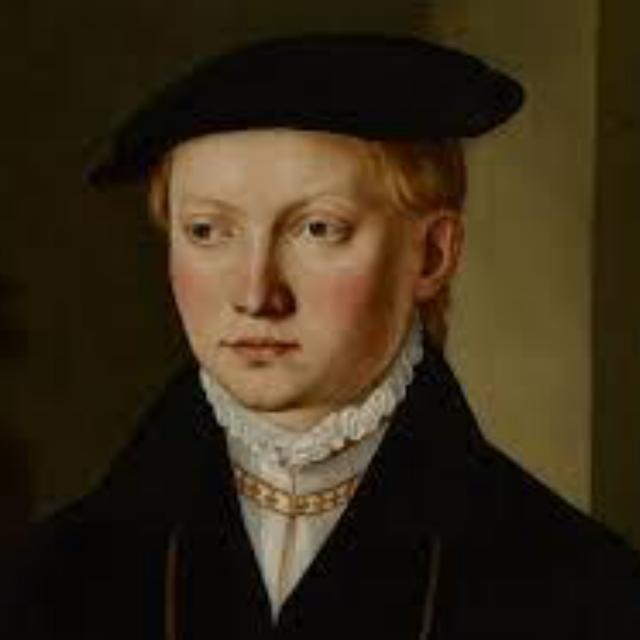Natural: (155, 131, 478, 434)
